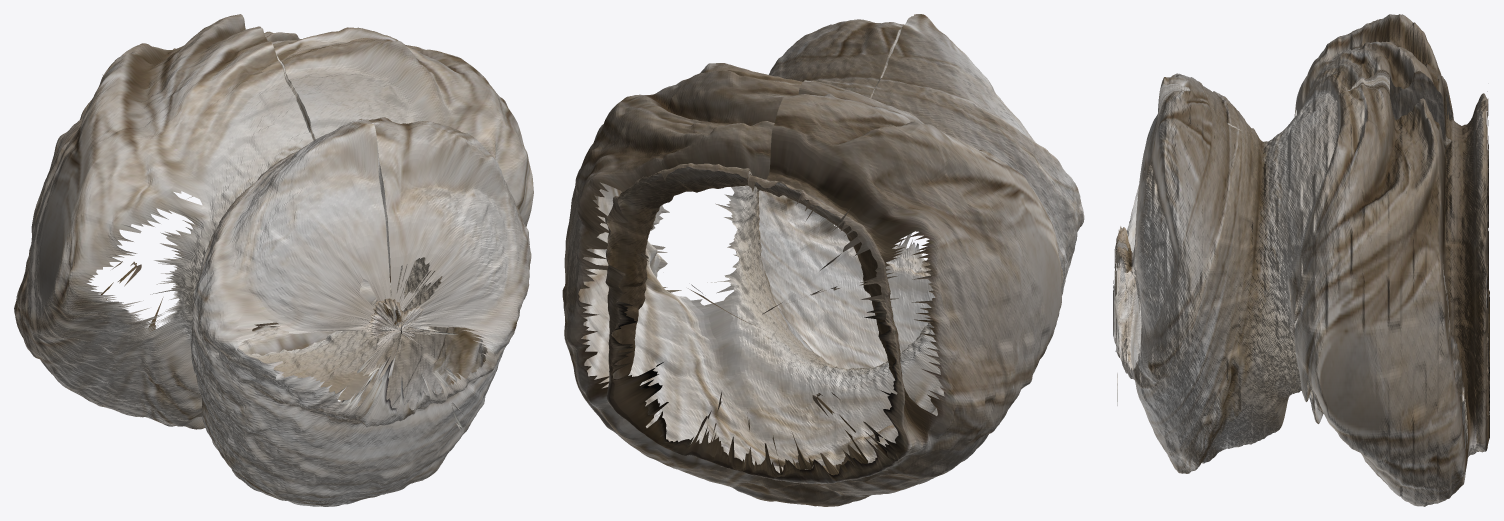
3 views of the same model, side by side, from view 1: azimuth 30°, elevation 25°; view 2: azimuth 150°, elevation 25°; view 3: azimuth 270°, elevation 25° (orthographic). The views are drawn at different scales.
Parts seen in each view (by area): view 1: geometry_0; view 2: geometry_0; view 3: geometry_0.
Boxes of the visible parts, bbox=[...] form: geometry_0: bbox=[14, 14, 533, 506]; geometry_0: bbox=[562, 14, 1084, 506]; geometry_0: bbox=[1113, 14, 1489, 506].
Bounding box in the file's own units: 2 × 1.67 × 1.43.
1 material, 1 textured.
